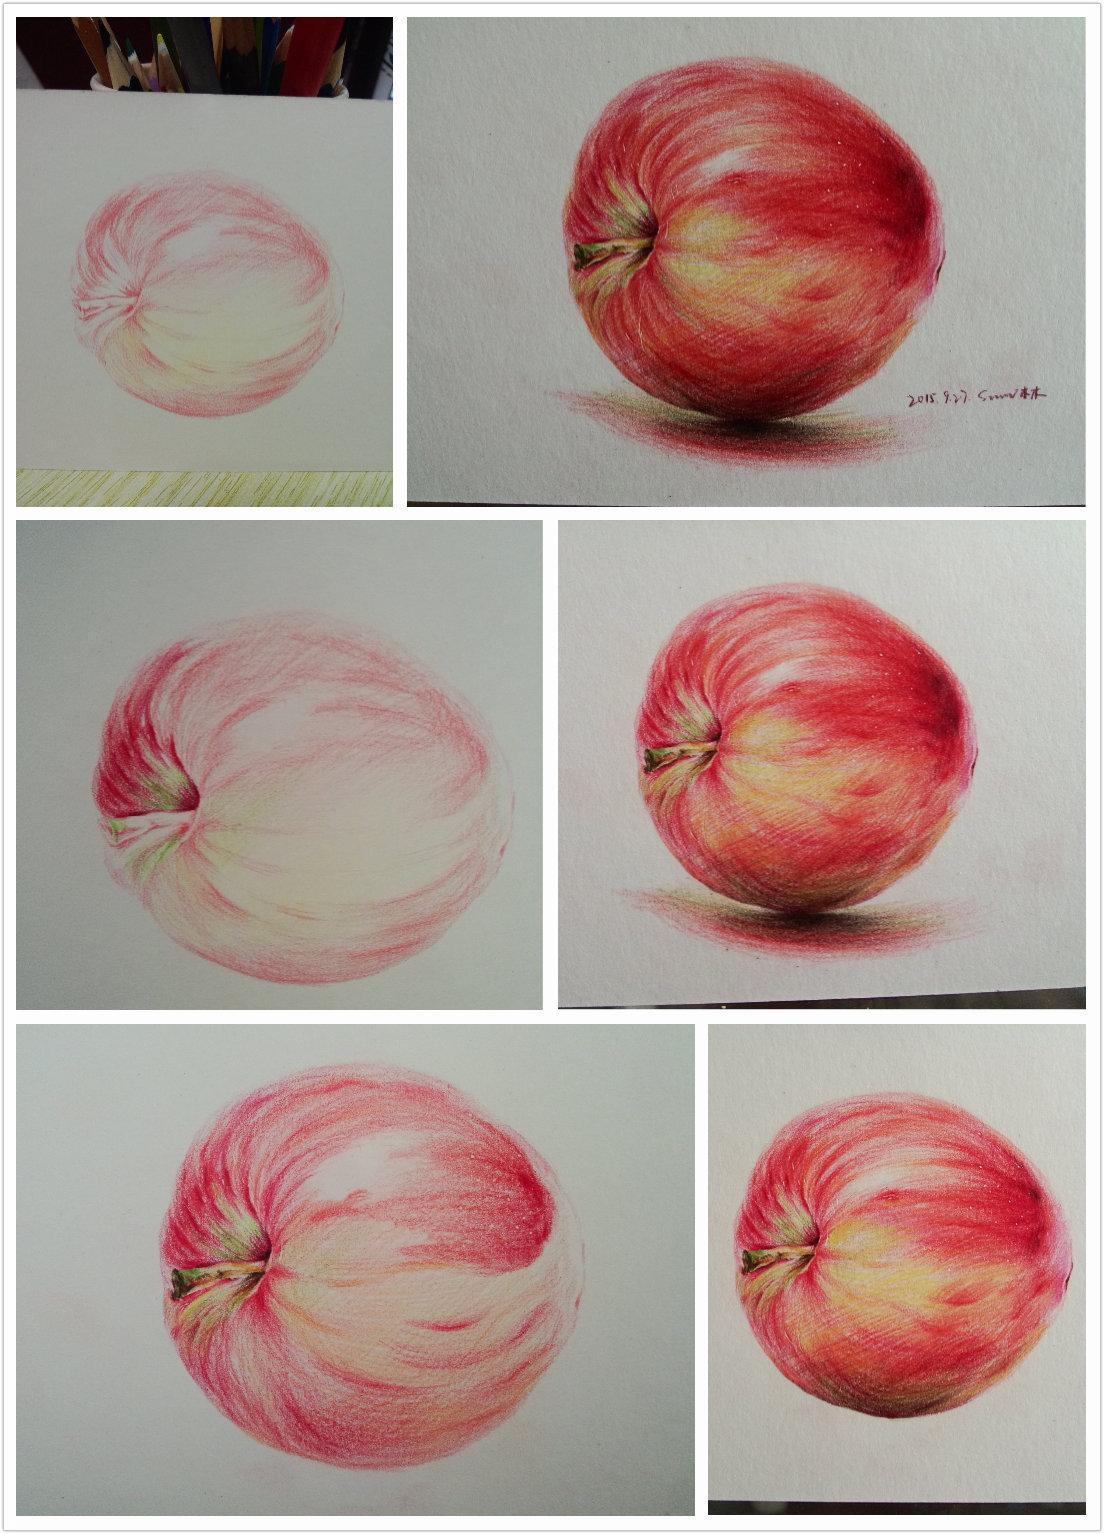apple: (559, 52, 942, 439), (628, 578, 980, 928)
